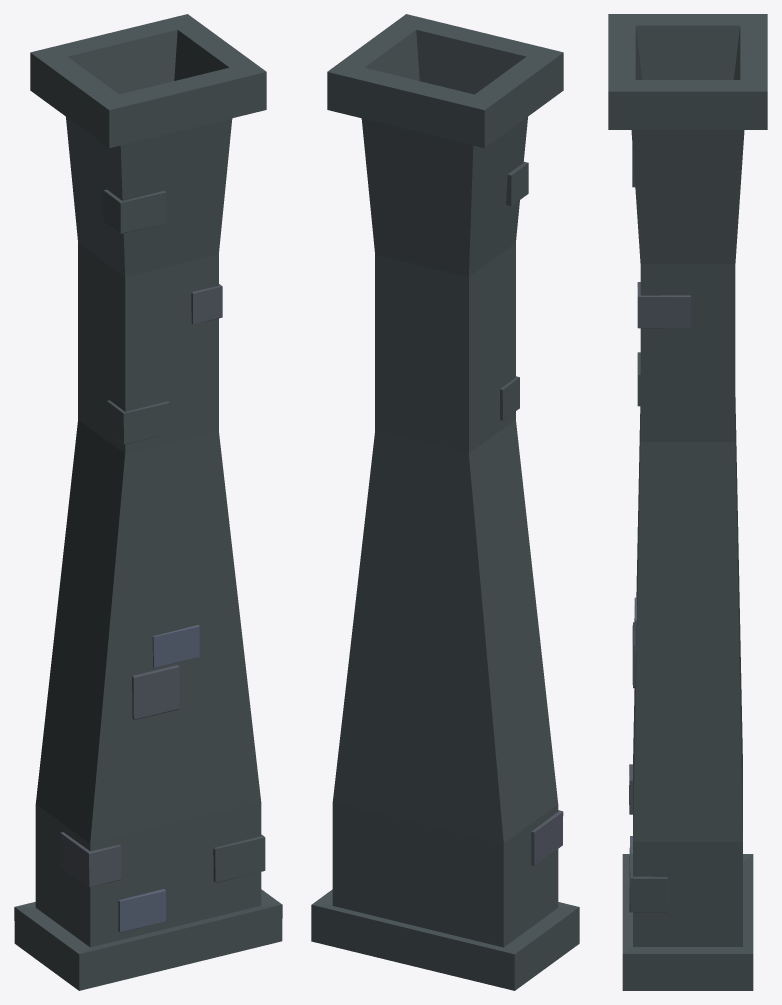
The model's file is Chimney_01.fbx.
3 renders of one model, left to right at view 1: azimuth 30°, elevation 25°; view 2: azimuth 150°, elevation 25°; view 3: azimuth 270°, elevation 25°, orthographic.
Visible parts, largest first — view 1: Chimney_01; view 2: Chimney_01; view 3: Chimney_01.
Boxes of the visible parts, x1,y1,x2,y2 form: Chimney_01: (14, 14, 282, 990); Chimney_01: (311, 14, 579, 990); Chimney_01: (608, 14, 767, 990).
Size of the model in its own units: 118 by 488 by 79.43.
